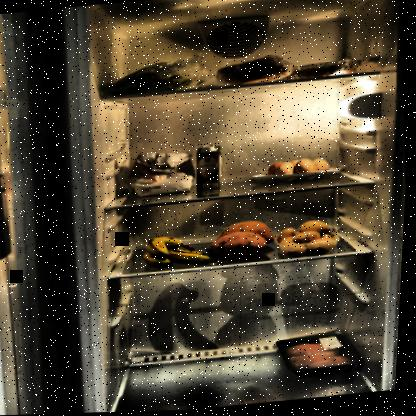banana: (142, 230, 224, 272)
chicken: (277, 334, 371, 383)
eggs: (265, 157, 333, 187)
green_beans: (102, 62, 210, 100)
heavy_cream: (194, 144, 225, 195)
potato: (276, 218, 350, 261)
shrimp: (291, 65, 359, 83)
sweet_potato: (207, 218, 281, 266)
